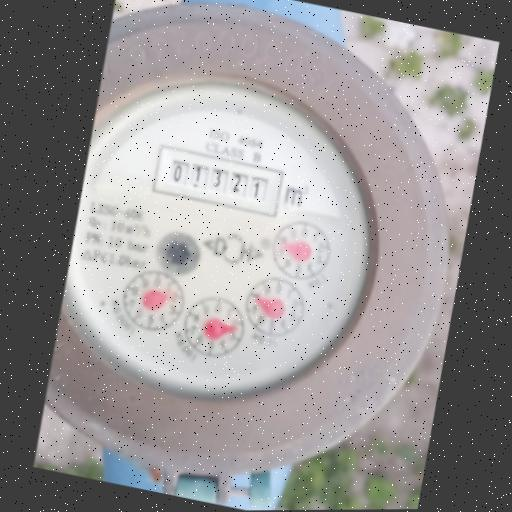0: (169, 161, 189, 185)
1: (190, 165, 209, 189), (249, 177, 268, 200)
2: (228, 173, 247, 197)
3: (209, 169, 228, 192)
border_water_meter_number: (150, 143, 285, 218)
